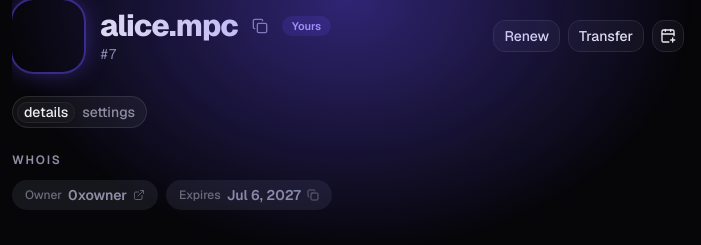
Test: Domain › settings tab › explains itself while the record repository loads
Click the tab with test id "tab-settings" at (109, 112), box [75,102,142,122]
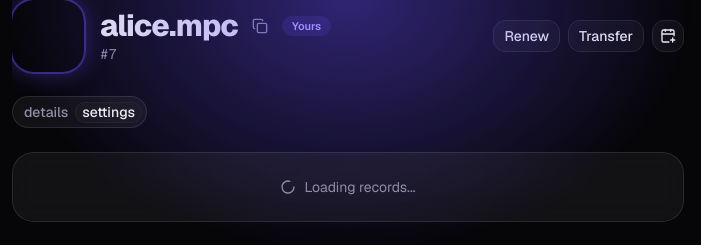
expect the text "Loading records..." is shown: met, box [12,152,684,222]
